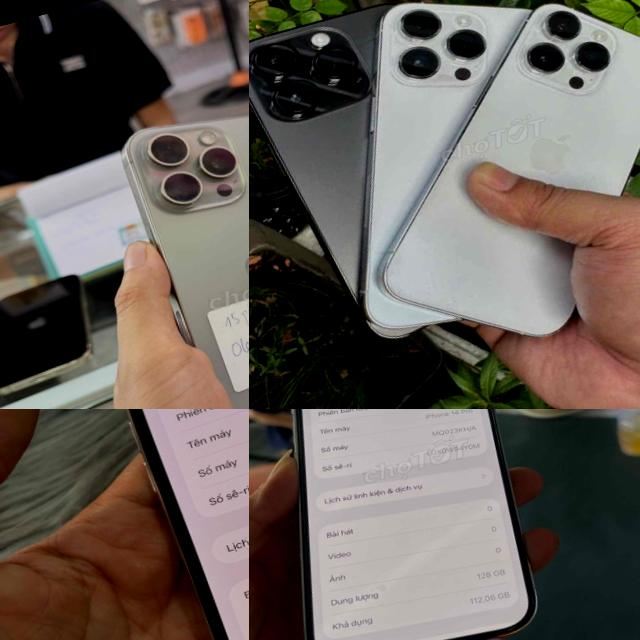gen_11: (85, 409, 249, 640)
gen_14: (249, 0, 529, 396), (249, 409, 564, 640)
gen_15: (110, 68, 249, 409)
